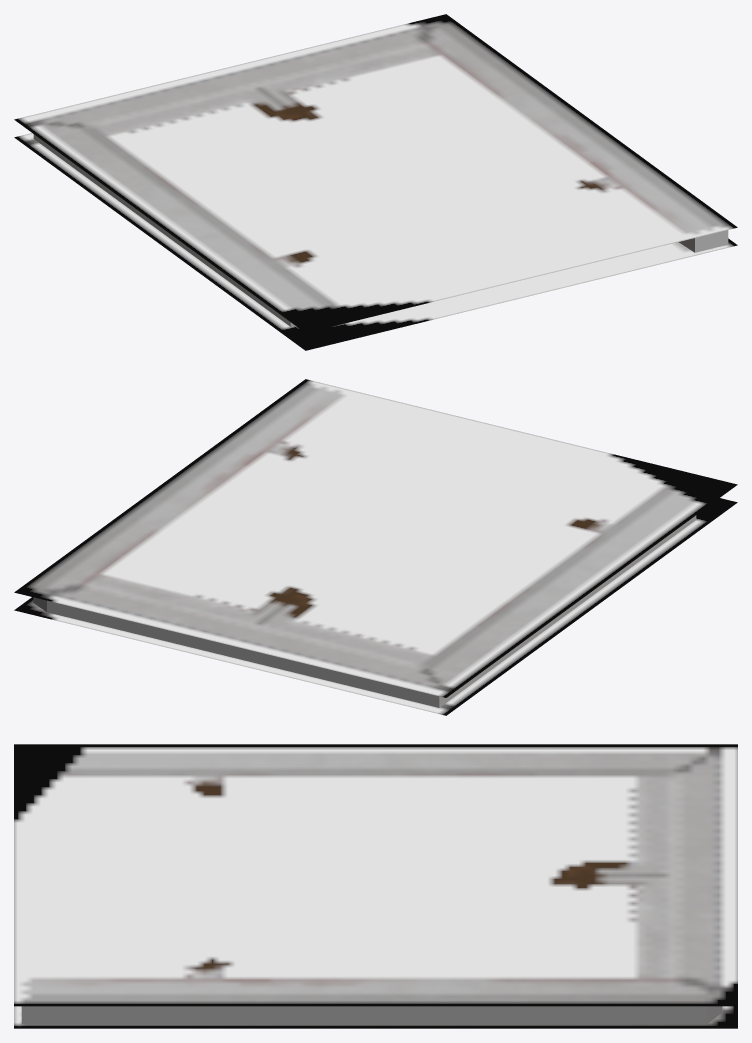
Rendered from pz_native_location_community_church_small_01_265_frame.obj.
The picture shows the model from 3 angles, top to bottom: view 1: azimuth 30°, elevation 25°; view 2: azimuth 150°, elevation 25°; view 3: azimuth 270°, elevation 25°; orthographic projection. The views are drawn at different scales.
Parts seen in each view (by area): view 1: pz_native_location_community_church_small_01_265_frame; view 2: pz_native_location_community_church_small_01_265_frame; view 3: pz_native_location_community_church_small_01_265_frame.
Part boxes in pixels (x1,y1,x2,y2): pz_native_location_community_church_small_01_265_frame: (14,14,737,350); pz_native_location_community_church_small_01_265_frame: (14,379,737,715); pz_native_location_community_church_small_01_265_frame: (14,744,737,1028).
Bounding box in the file's own units: 1.02 × 0.04 × 1.19.
1 material, 1 textured.
